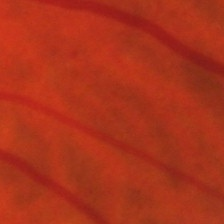MA: (72, 50, 79, 57)
